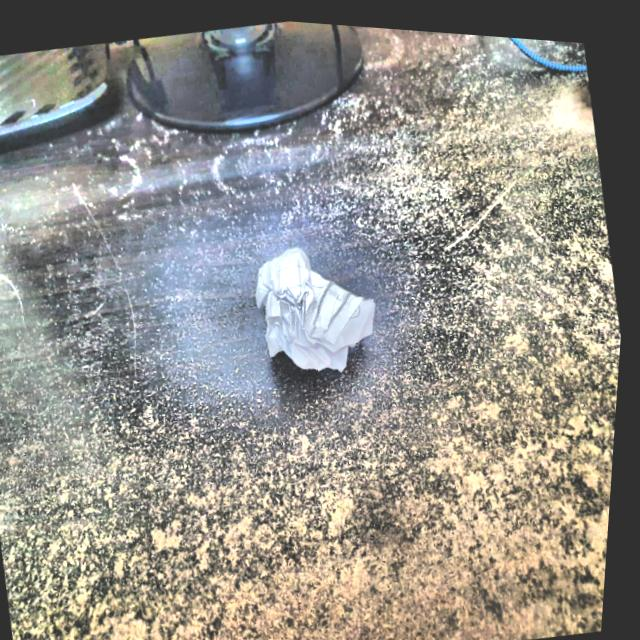Paper: (246, 226, 396, 391)
